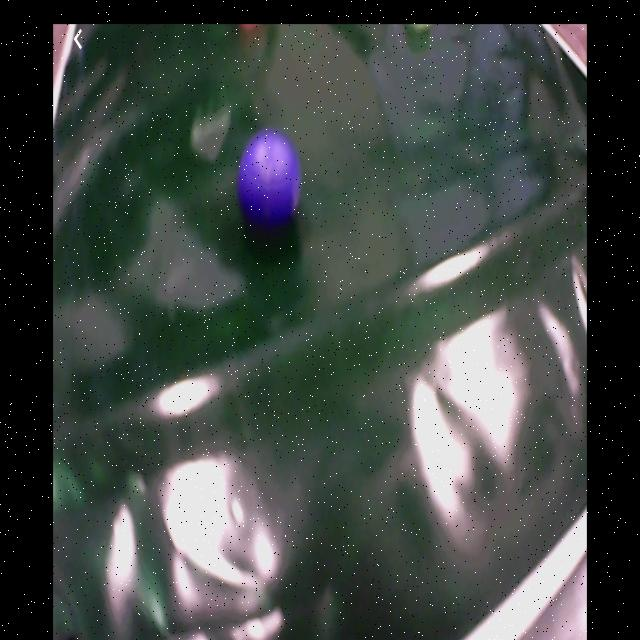ball: (239, 134, 302, 230)
